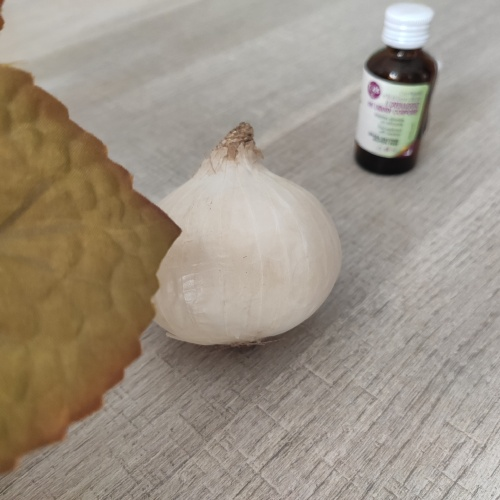cipolla: (116, 120, 348, 362)
